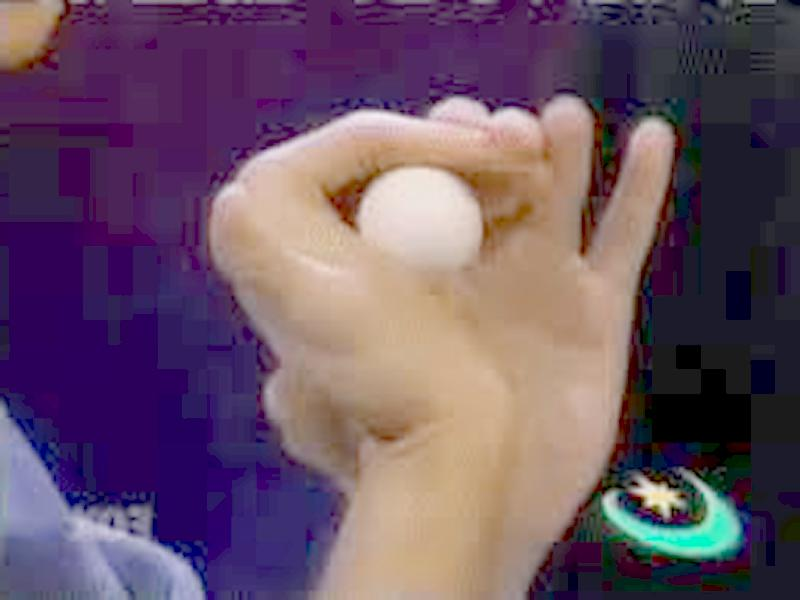Eggs: (354, 163, 484, 262)
